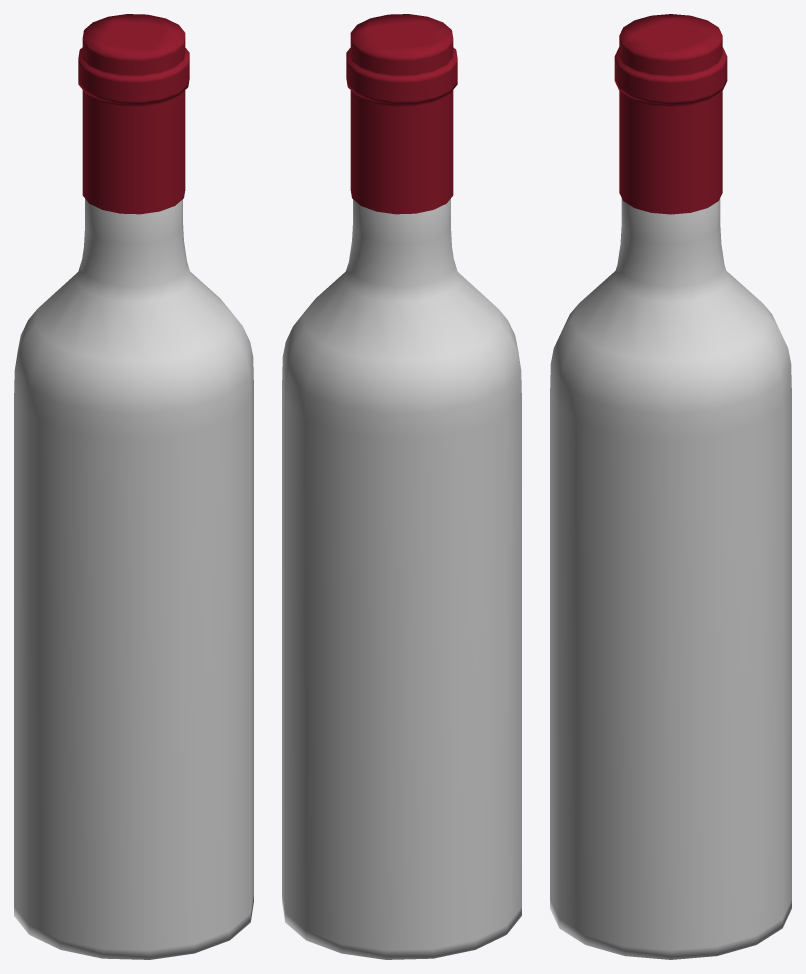
File: L2_KR_Vine.fbx
3 renders of one model, left to right at view 1: azimuth 30°, elevation 25°; view 2: azimuth 150°, elevation 25°; view 3: azimuth 270°, elevation 25°, orthographic.
Visible parts, largest first — view 1: L2_KR_Vine, L2_KR_VineTop; view 2: L2_KR_Vine, L2_KR_VineTop; view 3: L2_KR_Vine, L2_KR_VineTop.
Boxes of the visible parts, <box> form: L2_KR_Vine: <box>14,199,253,959</box>; L2_KR_VineTop: <box>78,14,189,214</box>; L2_KR_Vine: <box>282,199,521,959</box>; L2_KR_VineTop: <box>346,14,457,214</box>; L2_KR_Vine: <box>550,198,791,959</box>; L2_KR_VineTop: <box>614,14,727,214</box>.
Bounding box in the file's own units: 0.07 × 0.279 × 0.07.
